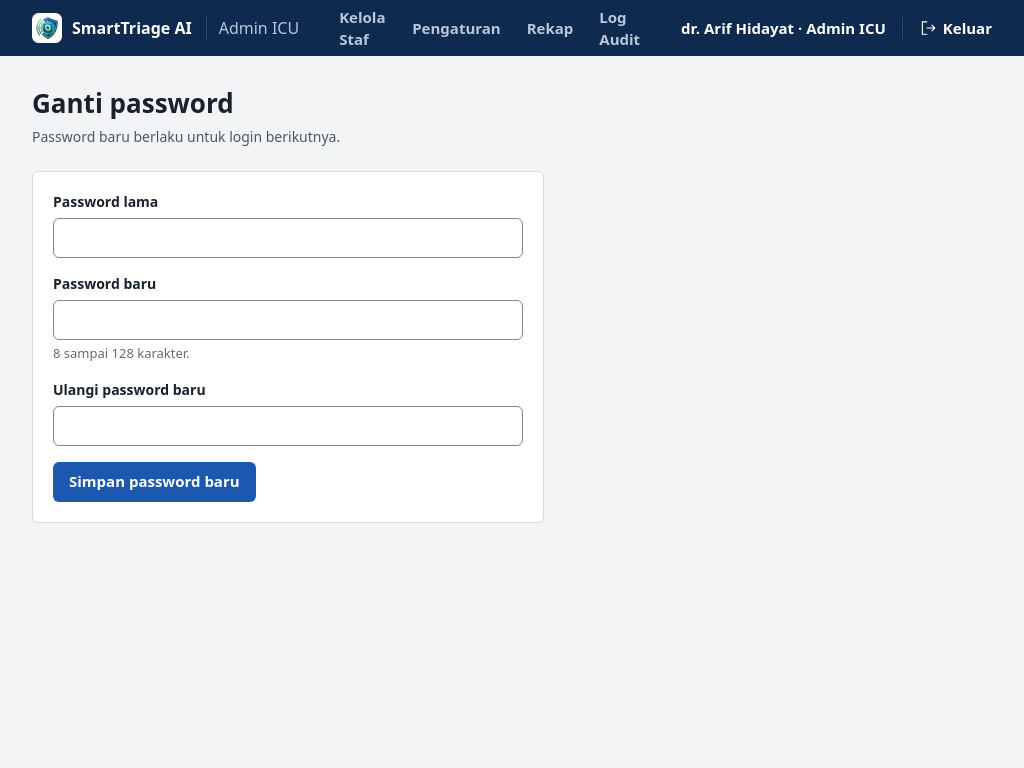
it: Ganti password › memeriksa isian di klien
The image size is (1024, 768).
Expected: the password field labelled "Password lama" is shown, [53,218,523,258]
Type "pendek" into the password field labelled "Password baru" at (288, 320), box [53,300,523,340]
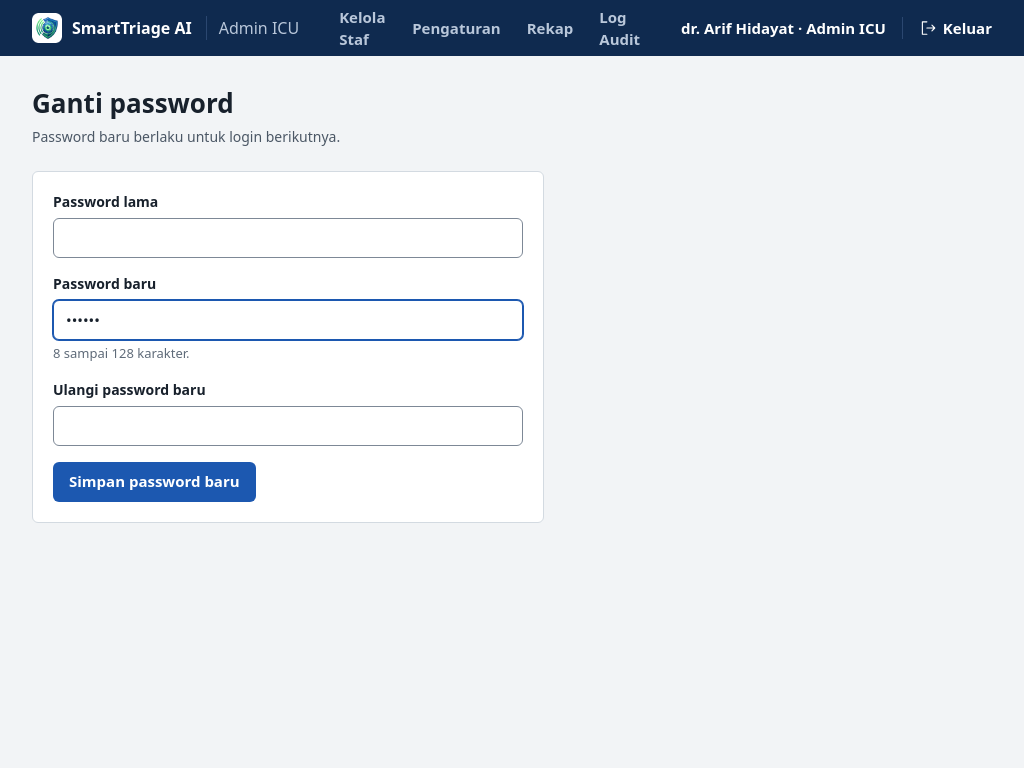
Type "beda" into the password field labelled "Ulangi password baru" at (288, 426), box [53,406,523,446]
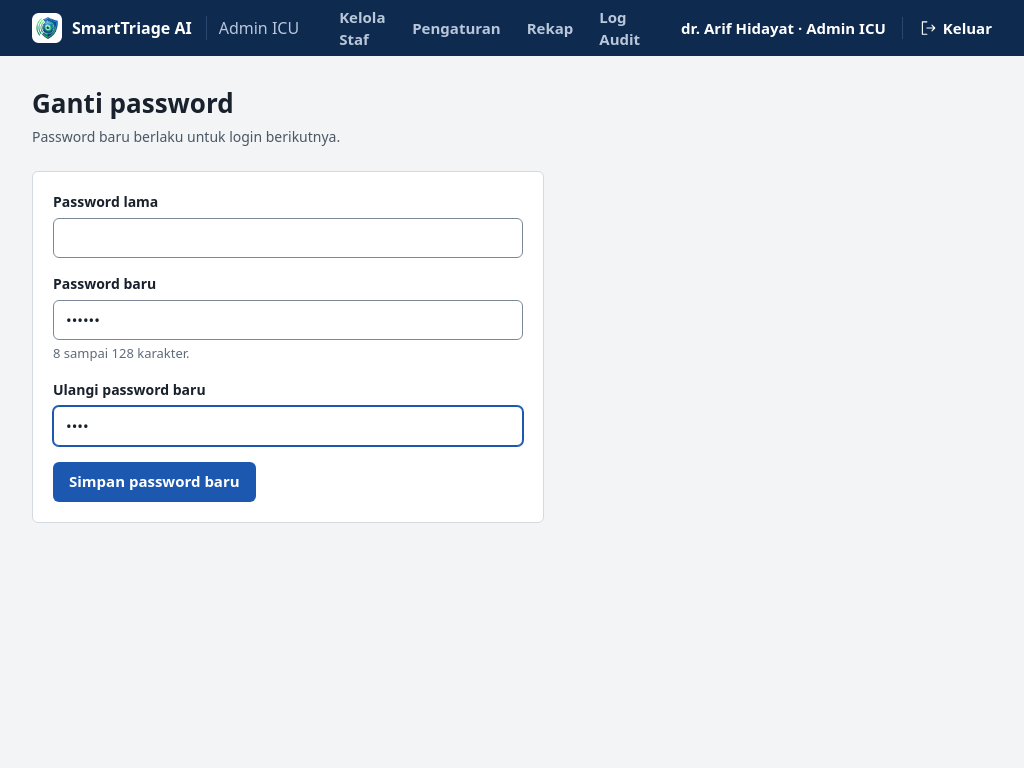
Click the button "Simpan password baru" at (154, 482), box [53,462,256,502]
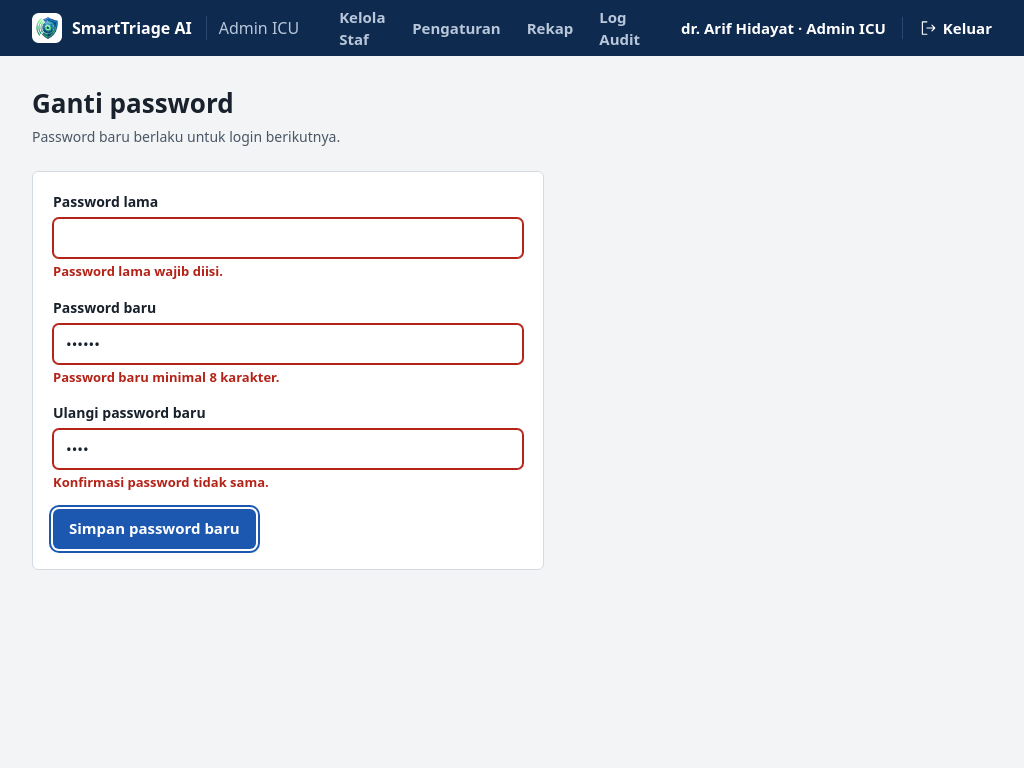
Result: the text "Password lama wajib diisi." is shown at [53,262,223,280]
Result: the text "Password baru minimal 8 karakter." is shown at [53,368,279,386]
Result: the text "Konfirmasi password tidak sama." is shown at [53,473,269,491]
